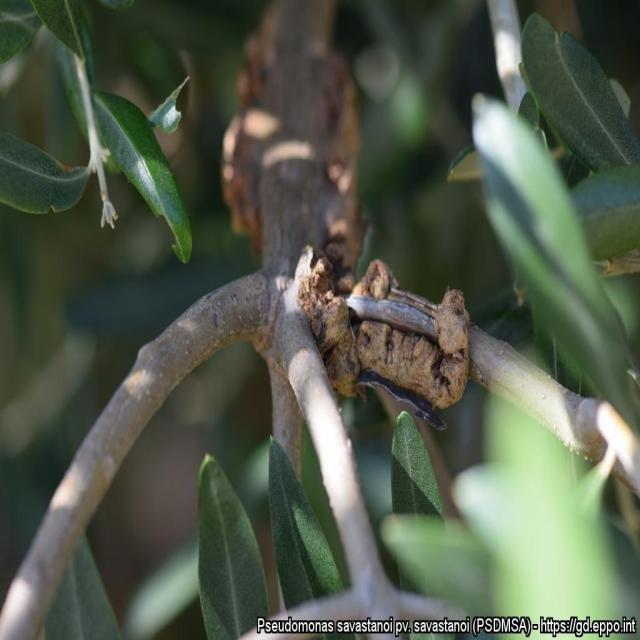Tuberculosis: (299, 257, 476, 427)
